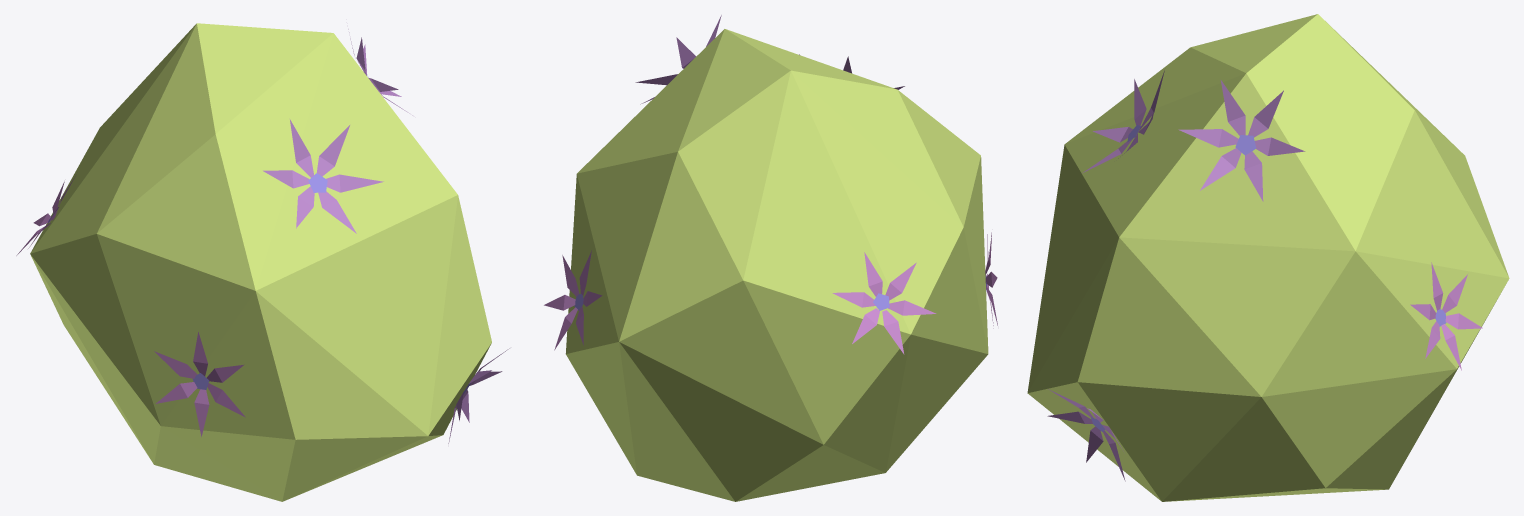
Rendered from FlowerBush_g_m_03.fbx.
3 views of the same model, side by side, from view 1: azimuth 30°, elevation 25°; view 2: azimuth 150°, elevation 25°; view 3: azimuth 270°, elevation 25° (orthographic).
Visible parts, largest first — view 1: FlowerBush_g_m_03_LOD0; view 2: FlowerBush_g_m_03_LOD0; view 3: FlowerBush_g_m_03_LOD0.
Part boxes in pixels (x1=…): FlowerBush_g_m_03_LOD0: x1=16, y1=23, x2=509, y2=501; FlowerBush_g_m_03_LOD0: x1=544, y1=15, x2=997, y2=501; FlowerBush_g_m_03_LOD0: x1=1027, y1=14, x2=1509, y2=501.
Size of what is drawn, in the model's own units: 132 by 143 by 136.
